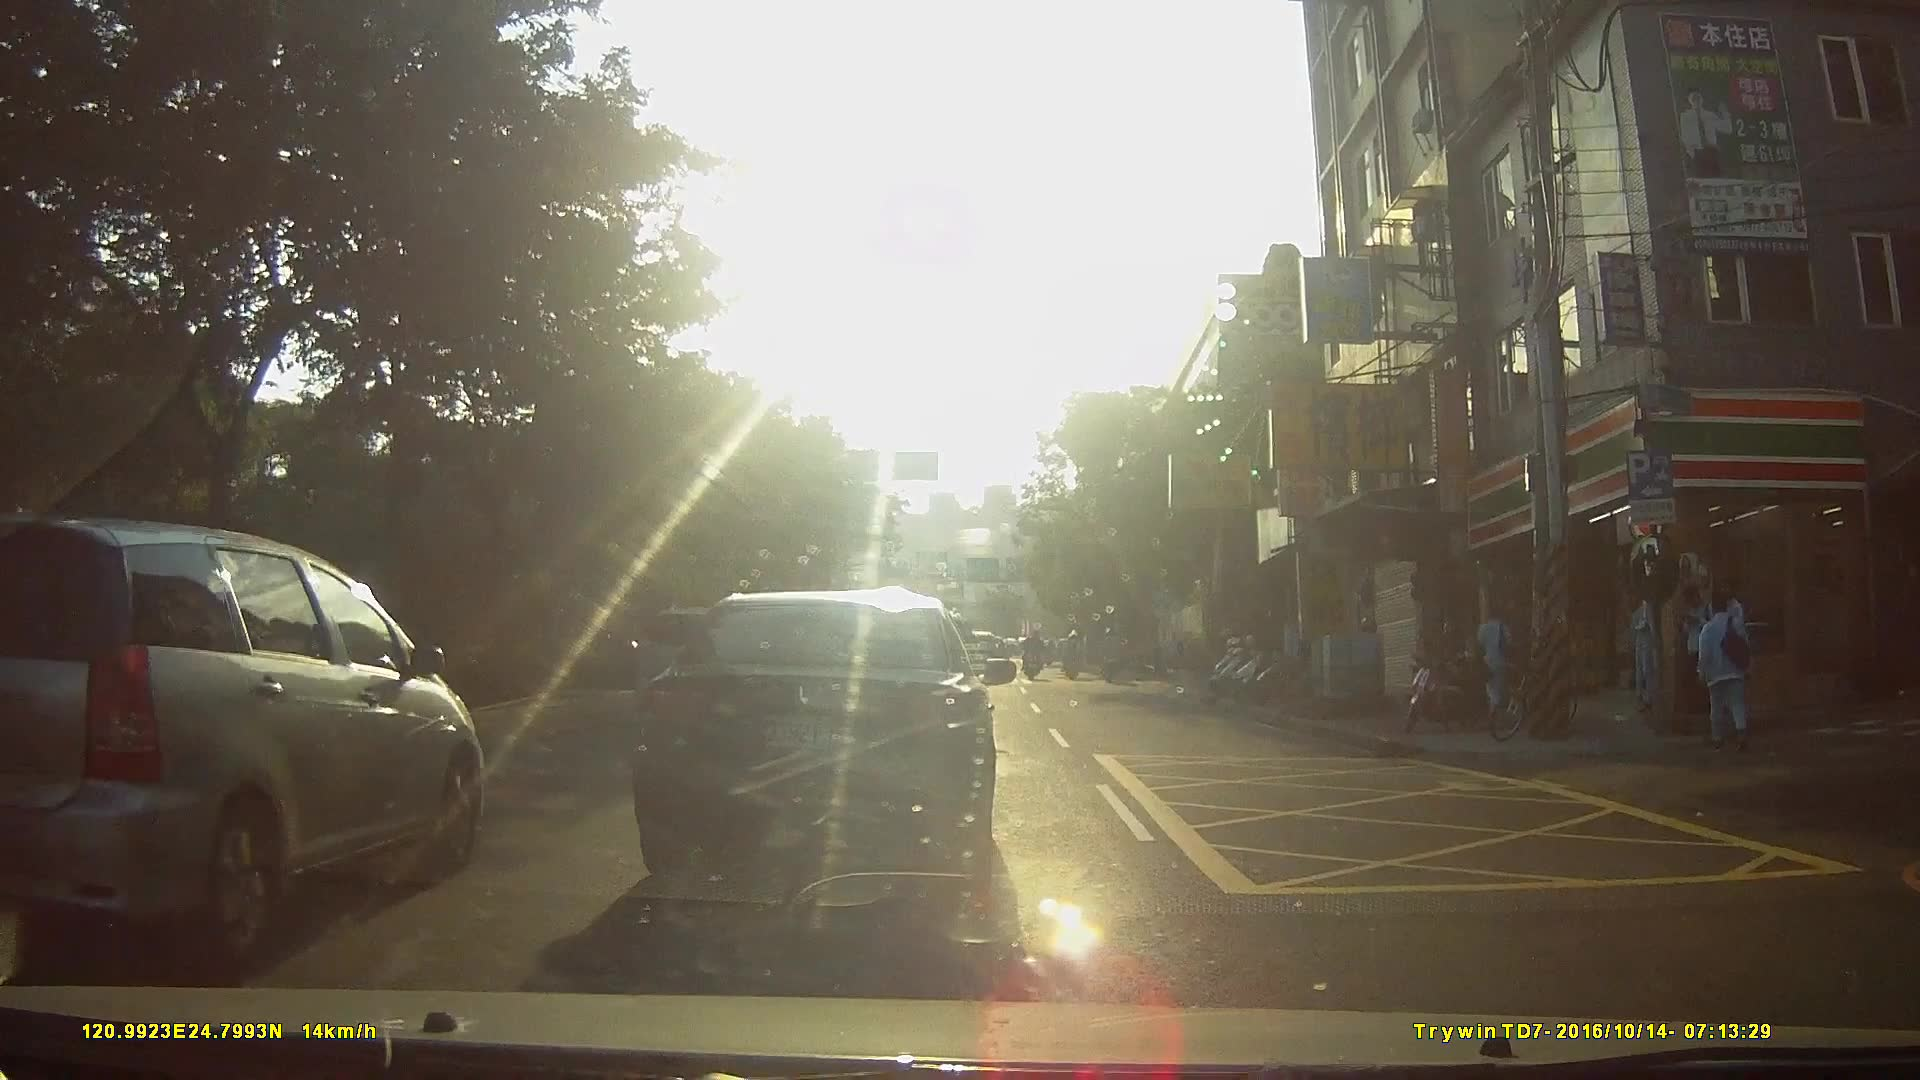pedestrian: (1700, 590, 1759, 755), (1474, 605, 1526, 717), (1686, 573, 1722, 711), (1618, 583, 1655, 708)
rider: (1062, 624, 1090, 685), (1098, 625, 1124, 688), (1022, 628, 1051, 681)
vehicle: (1, 526, 523, 935), (592, 576, 1030, 894)
